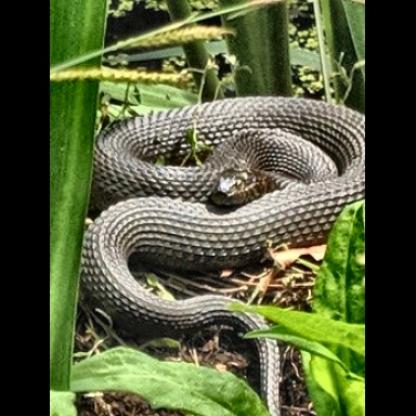Snake: (74, 76, 364, 414)
